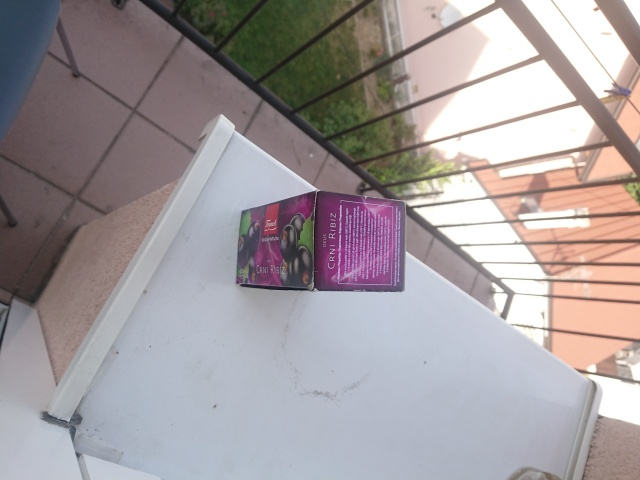Franck Black Currant Tea 60g: (233, 187, 409, 295)
